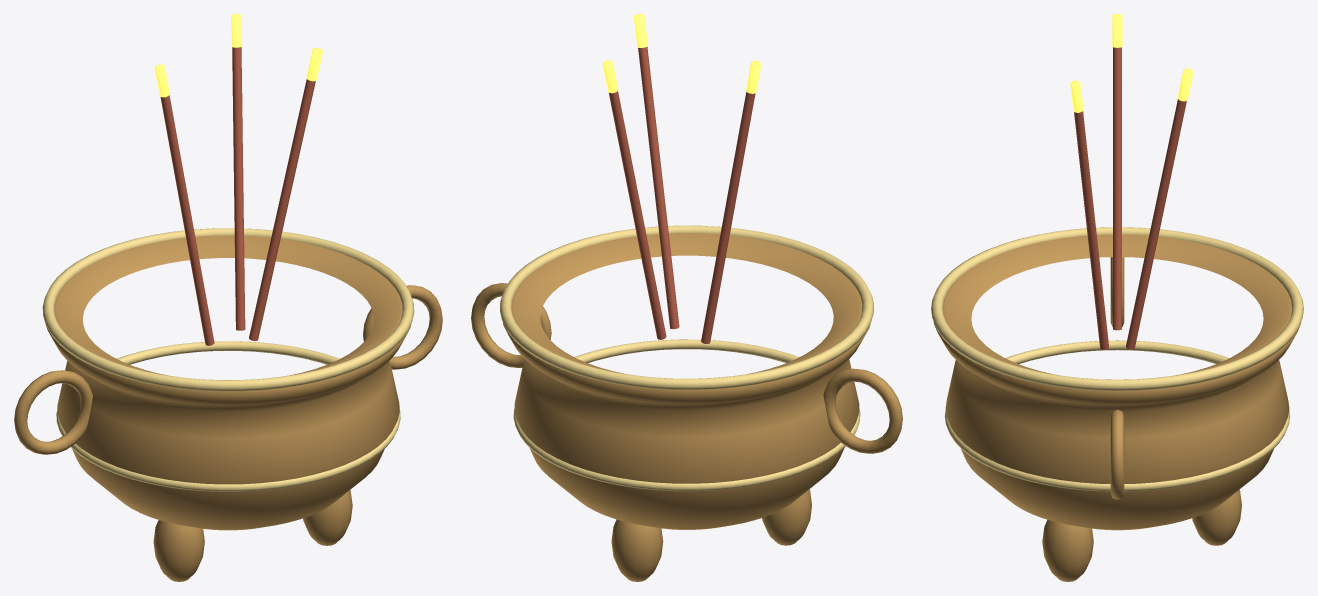
File: incense_3.glb
The picture shows the model from 3 angles, left to right: view 1: azimuth 30°, elevation 25°; view 2: azimuth 150°, elevation 25°; view 3: azimuth 270°, elevation 25°; orthographic projection.
Parts seen in each view (by area): view 1: censer, lip, band, ear-1, stick2, stick1, stick0, foot1, ear1, foot0; view 2: censer, lip, band, ear-1, stick1, stick2, stick0, foot2, ear1, foot1; view 3: censer, lip, band, stick0, stick2, foot0, stick1, foot2, ear1.
Boxes of the visible parts, bbox=[...] form: censer: bbox=[46, 235, 411, 530]; lip: bbox=[42, 228, 414, 391]; band: bbox=[56, 341, 400, 491]; ear-1: bbox=[14, 370, 92, 454]; stick2: bbox=[232, 47, 245, 330]; stick1: bbox=[249, 79, 315, 340]; stick0: bbox=[160, 95, 214, 345]; foot1: bbox=[153, 520, 204, 581]; ear1: bbox=[363, 285, 442, 369]; foot0: bbox=[303, 490, 352, 545]; censer: bbox=[503, 233, 870, 529]; lip: bbox=[500, 225, 873, 389]; band: bbox=[513, 339, 860, 491]; ear-1: bbox=[823, 368, 902, 453]; stick1: bbox=[638, 47, 679, 329]; stick2: bbox=[609, 91, 666, 339]; stick0: bbox=[701, 92, 755, 343]; foot2: bbox=[611, 519, 663, 581]; ear1: bbox=[471, 283, 551, 367]; foot1: bbox=[762, 489, 811, 545]; censer: bbox=[933, 234, 1301, 530]; lip: bbox=[931, 227, 1303, 390]; band: bbox=[944, 340, 1290, 491]; stick0: bbox=[1113, 47, 1121, 330]; stick2: bbox=[1126, 99, 1186, 349]; foot0: bbox=[1042, 519, 1093, 581]; stick1: bbox=[1074, 111, 1108, 349]; foot2: bbox=[1192, 490, 1241, 545]; ear1: bbox=[1110, 409, 1124, 499].
Bounding box in the file's own units: 1.15 × 1.28 × 0.868.
